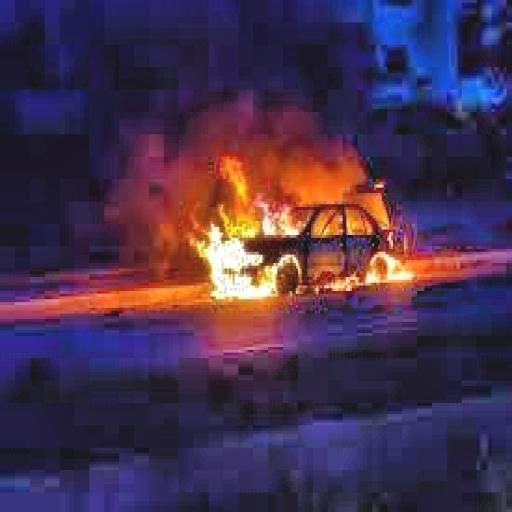fire: (178, 154, 314, 305), (348, 204, 426, 300)
